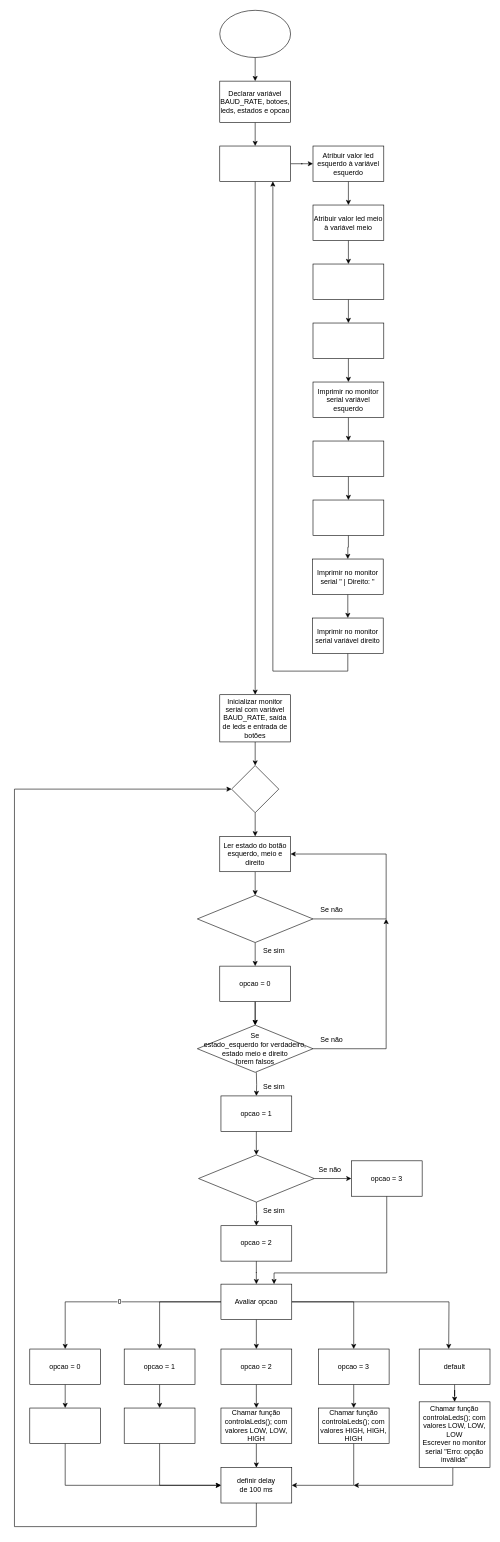
Image size: 500x1542. Some labels were removed from this diagram. Each missing label, with the centre of its shape:
Atribuir valor led direito à variável direito: the point at 348,281
Chamar função controlaLeds(); com valores HIGH, LOW, LOW: the point at 159,1425
Chamar função controlaLeds(); com valores LOW, LOW, LOW: the point at 65,1425
Definir função controlaLeds(): the point at 255,163
Imprimir no monitor serial " | Meio: ": the point at 348,458
Imprimir no monitor serial "Estado -> Esquerdo: ": the point at 348,340
Imprimir no monitor serial variável meio: the point at 348,517
Início: the point at 255,34
Repetir sempre: the point at 255,789
Se estado_esquerdo e meio forem falsos e estado direito for verdadeiro: the point at 256,1178
Se estado_esquerdo, meio e direito forem falsos: the point at 255,919
